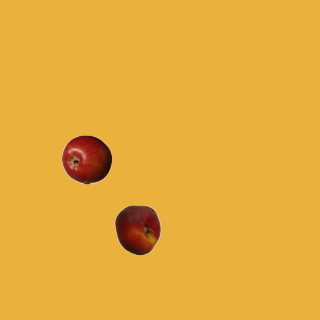Apple Braeburn: (61, 134, 111, 184)
Nectarine Flat: (112, 204, 162, 254)
